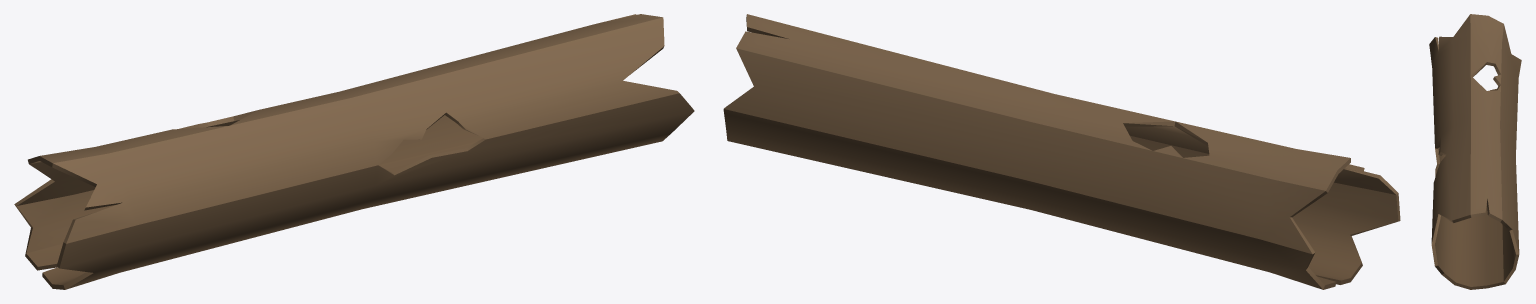
Rendered from Log_03.fbx.
The picture shows the model from 3 angles, left to right: view 1: azimuth 30°, elevation 25°; view 2: azimuth 150°, elevation 25°; view 3: azimuth 270°, elevation 25°; orthographic projection. The views are drawn at different scales.
Parts seen in each view (by area): view 1: Log_03_LOD0; view 2: Log_03_LOD0; view 3: Log_03_LOD0.
Boxes of the visible parts, left/top/right/bottom form: Log_03_LOD0: left=14, top=14, right=694, bottom=289; Log_03_LOD0: left=723, top=14, right=1400, bottom=289; Log_03_LOD0: left=1429, top=14, right=1521, bottom=289.
Size of what is drawn, in the model's own units: 1.48 by 0.2796 by 0.28.
